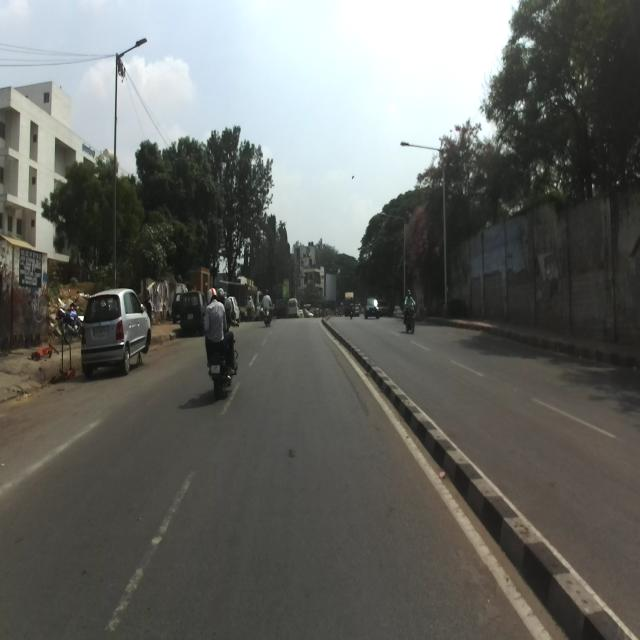car ahead at: (74, 283, 158, 380)
